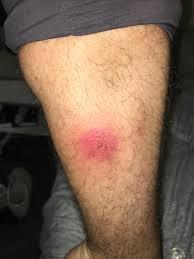Spider: (71, 123, 125, 164)
